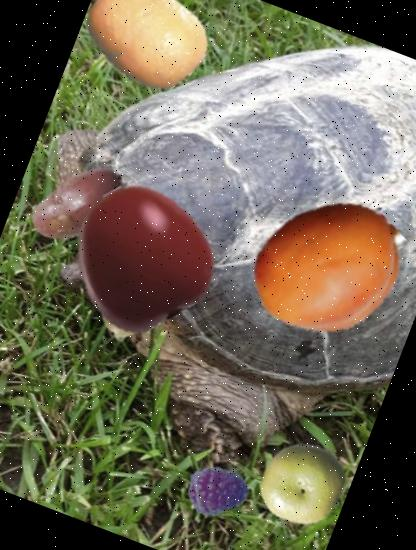Apricot: (231, 170, 416, 364)
Cactus: (86, 273, 165, 352)
Kumquats: (67, 0, 225, 113)
Pomelo: (248, 429, 357, 538)
Potato: (12, 138, 144, 272)
Raspberry: (178, 450, 257, 530)
Tomato: (49, 165, 231, 347)
